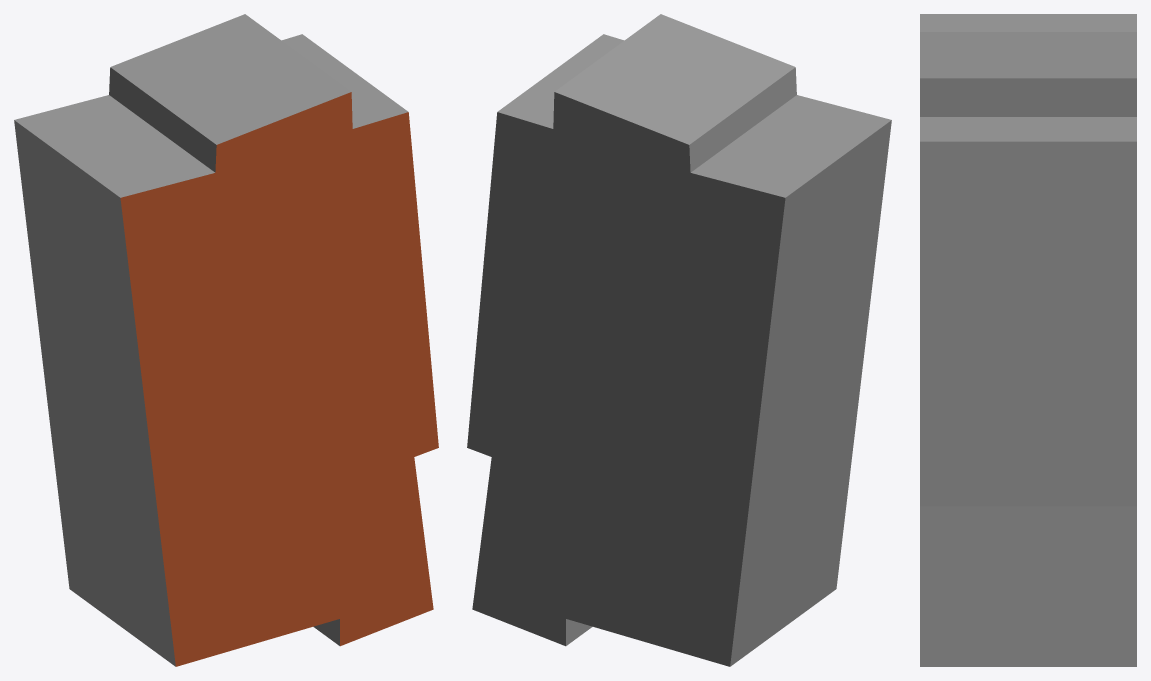
File: construction_5179_assumed_A_Casa_h6m.obj
3 renders of one model, left to right at view 1: azimuth 30°, elevation 25°; view 2: azimuth 150°, elevation 25°; view 3: azimuth 270°, elevation 25°, orthographic.
Parts seen in each view (by area): view 1: construction_5179_assumed_A_Casa; view 2: construction_5179_assumed_A_Casa; view 3: construction_5179_assumed_A_Casa.
Part boxes in pixels (box(x1,y1,x2,y2)): construction_5179_assumed_A_Casa: box(14, 14, 438, 666); construction_5179_assumed_A_Casa: box(467, 14, 891, 666); construction_5179_assumed_A_Casa: box(920, 14, 1136, 666).
Size of the model in its own units: 10.37 by 17.16 by 6.
